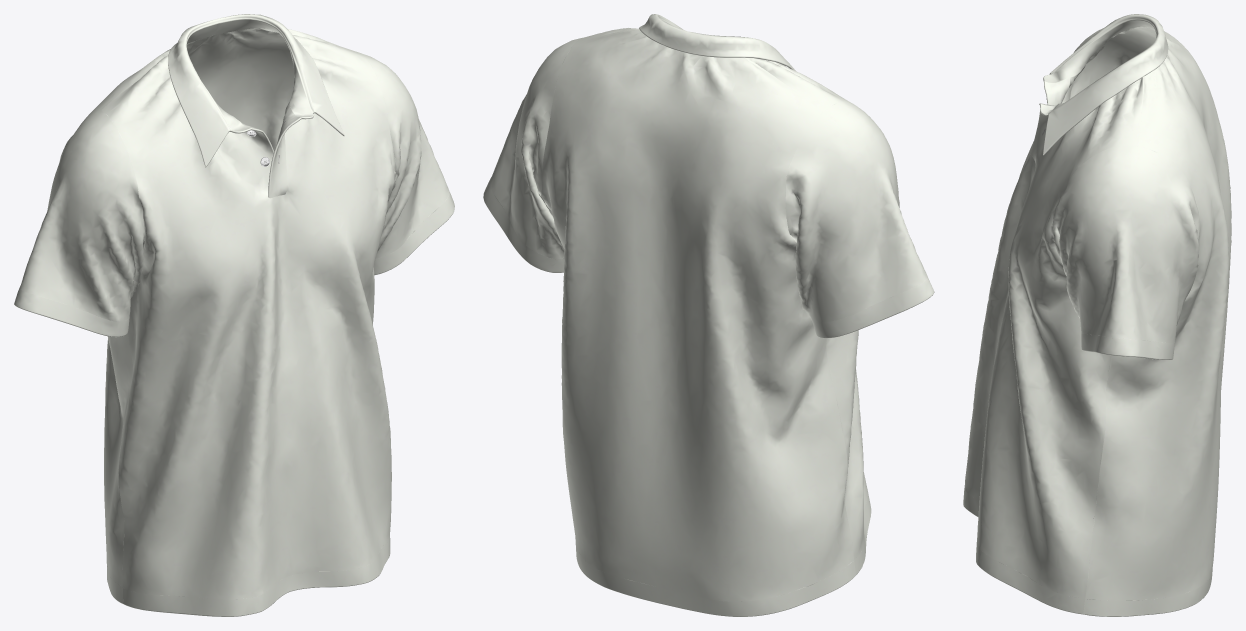
The model's file is polo.glb.
3 renders of one model, left to right at view 1: azimuth 30°, elevation 25°; view 2: azimuth 150°, elevation 25°; view 3: azimuth 270°, elevation 25°, orthographic. The views are drawn at different scales.
Parts seen in each view (by area): view 1: Short Sleeve Polo_Cotton_Heavy_Canvas_FRONT_232020_0; view 2: Short Sleeve Polo_Cotton_Heavy_Canvas_FRONT_232020_0; view 3: Short Sleeve Polo_Cotton_Heavy_Canvas_FRONT_232020_0.
Boxes of the visible parts, x1,y1,x2,y2 form: Short Sleeve Polo_Cotton_Heavy_Canvas_FRONT_232020_0: (14,14,454,616); Short Sleeve Polo_Cotton_Heavy_Canvas_FRONT_232020_0: (483,14,934,616); Short Sleeve Polo_Cotton_Heavy_Canvas_FRONT_232020_0: (963,14,1231,616).
Bounding box in the file's own units: 0.6033 × 0.7168 × 0.3267.
3 materials, 2 textured.
